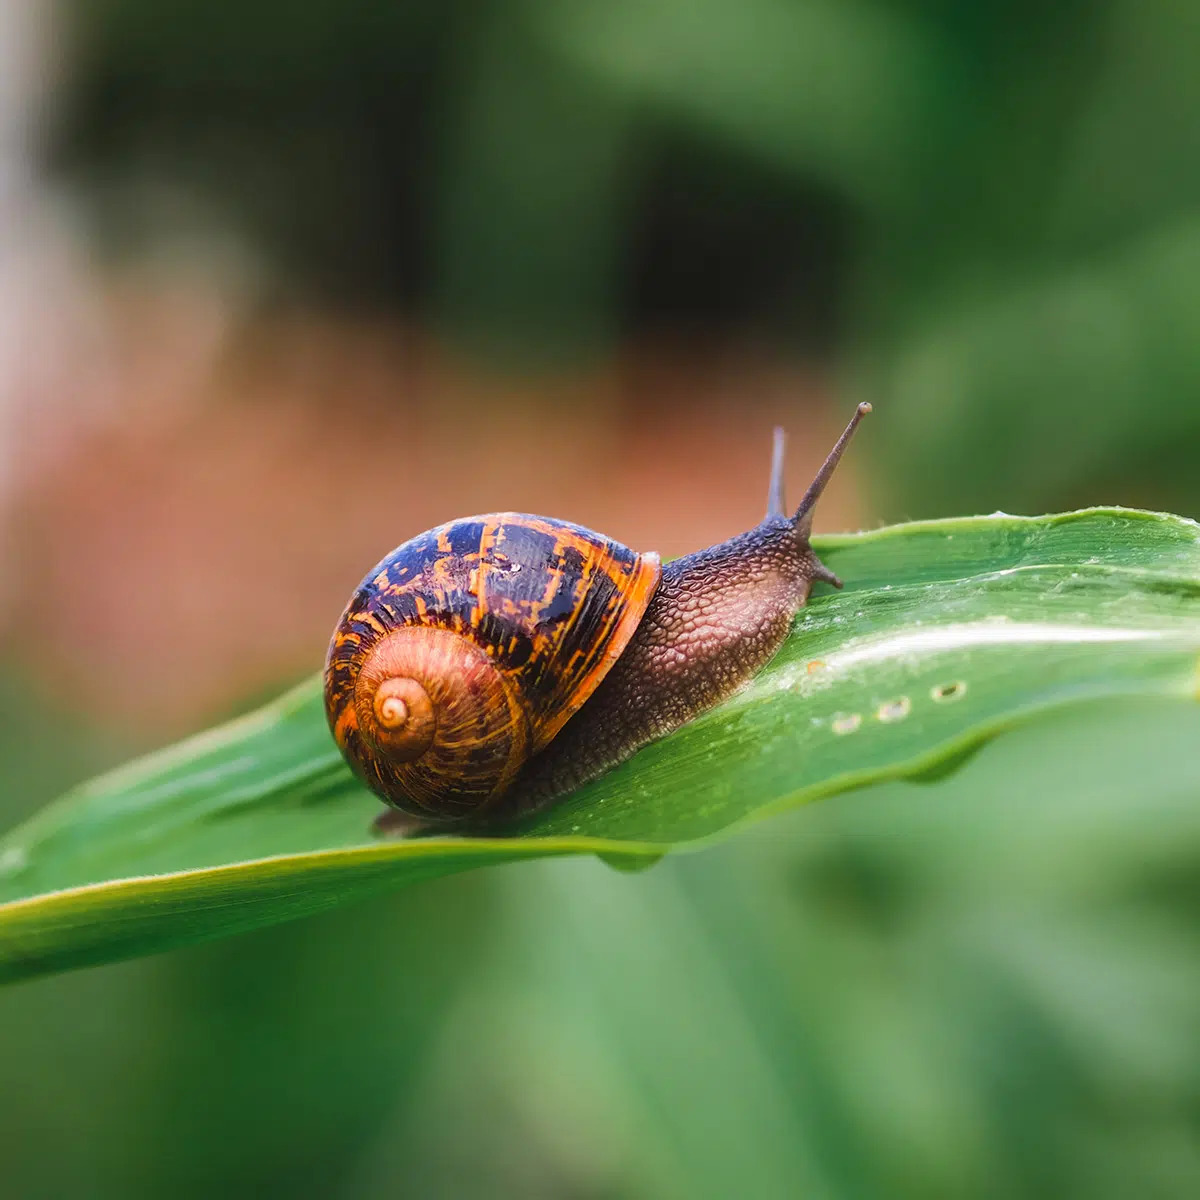snail: (301, 413, 933, 816)
